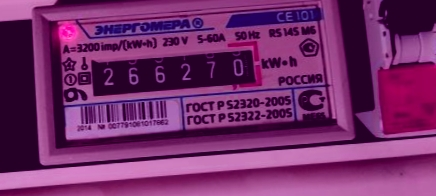0: (229, 58, 243, 79)
2: (98, 68, 115, 89), (176, 63, 191, 84)
6: (124, 66, 139, 88), (151, 66, 165, 86)
7: (202, 61, 215, 81)
screen: (79, 40, 266, 105)
